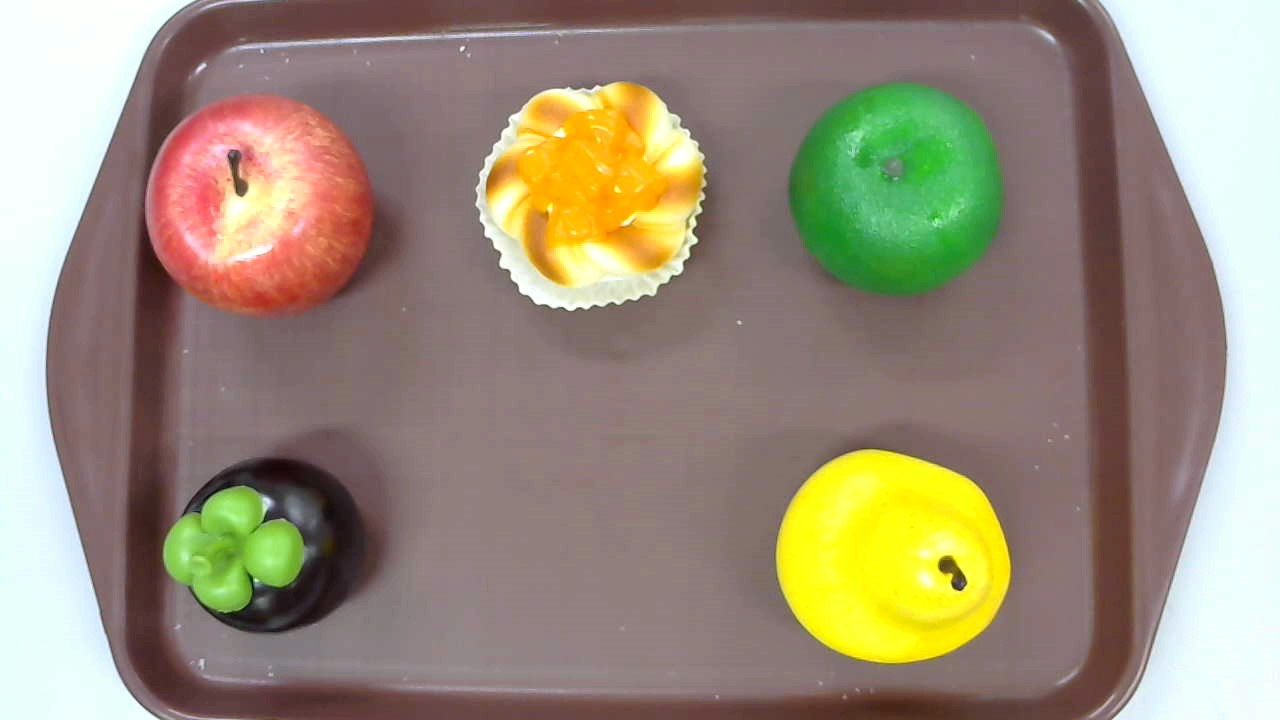green orange: (789, 82, 1003, 297)
mango tart: (476, 80, 709, 313)
mangosteen: (162, 459, 366, 636)
red apple: (143, 94, 375, 321)
yellow pear: (775, 447, 1013, 666)
